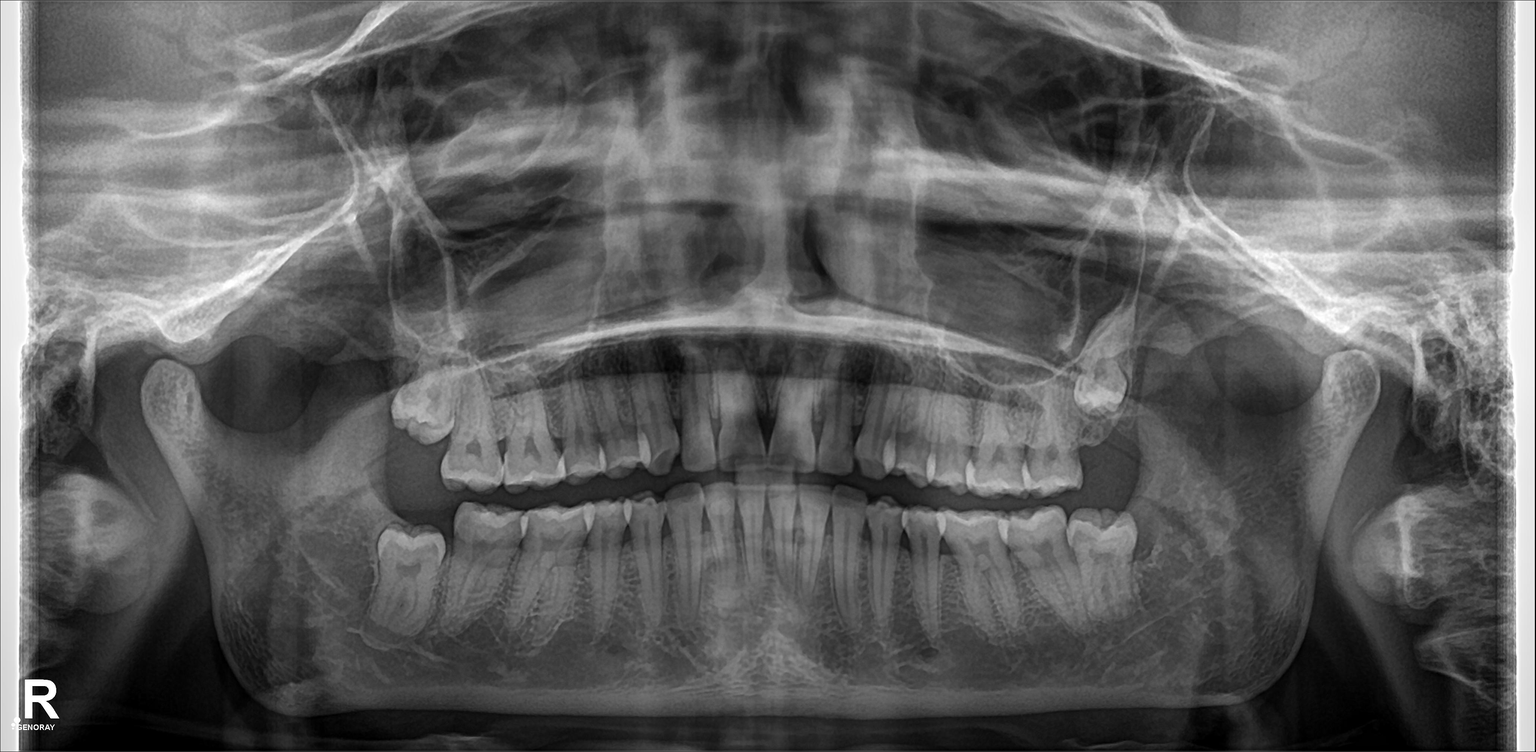Impacted Third Molar: (395, 359, 457, 438), (1080, 357, 1120, 408)
Missing Tooth: (1086, 402, 1131, 471)
